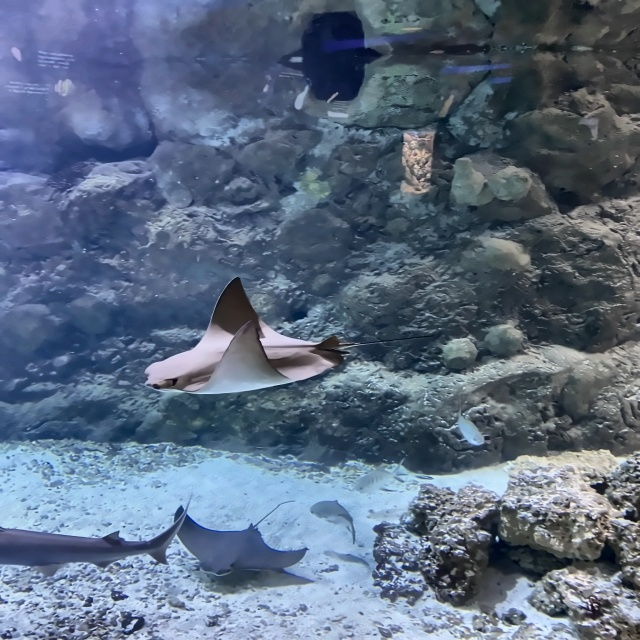fish: (309, 500, 354, 544), (352, 459, 405, 494), (455, 414, 484, 445)
shark: (0, 492, 193, 578)
stingray: (142, 276, 342, 395), (173, 506, 307, 577)
